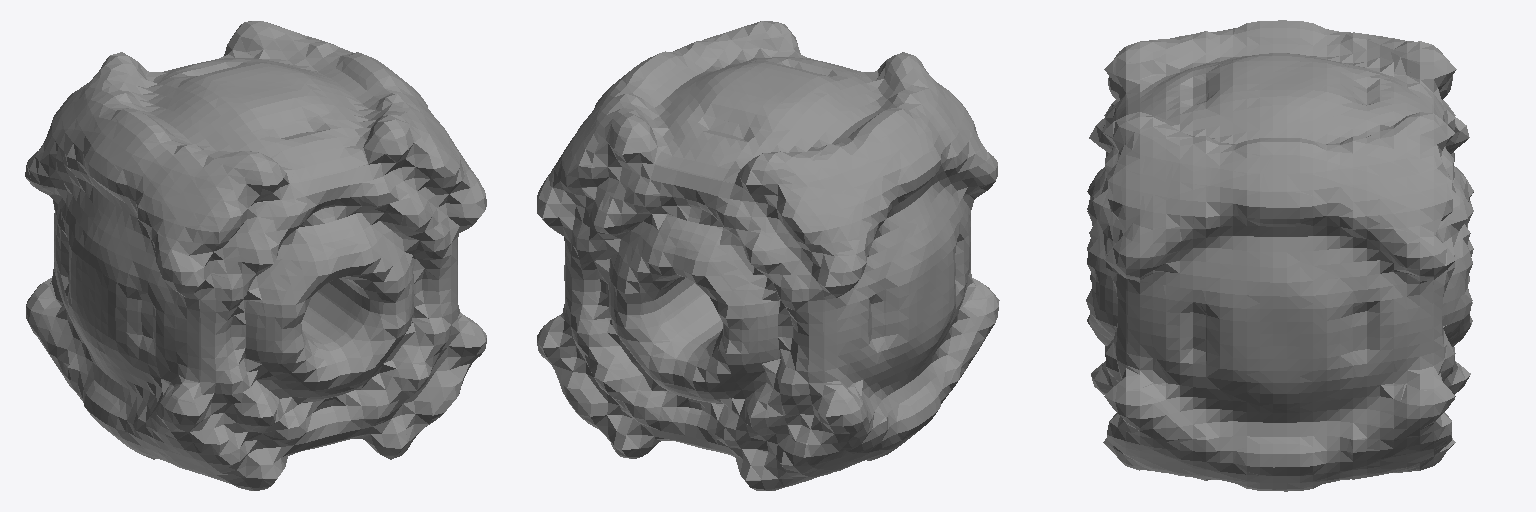
robot.urdf — cube.urdf:
<?xml version="0.0" ?> 
<robot name="cube.urdf"> 
<link name="legobrick"> 
<contact> 
<lateral_friction value="5.0"/> 
<rolling_friction value="0.0"/> 
<contact_cfm value="0.0"/> 
<contact_erp value="1.0"/> 
</contact> 
<inertial> 
<origin rpy="0 0 0" xyz="0.0 0.0 0.0"/> 
<mass value=".01"/> 
<inertia ixx="1" ixy="0" ixz="0" iyy="1" iyz="0" izz="1"/> 
</inertial> 
<visual> 
<origin rpy="1.570796 0 0" xyz="-0.025774365418792106 0.025836840332953828 -0.02580090517393538"/> 
<geometry> 
<mesh filename="D23_0.obj" scale="0.0006780721160538019 0.0006780721160538019 0.0006780721160538019"/> 
</geometry> 
<material name="yellow"> 
<color rgba="0.6 0.6 0.6 1"/> 
</material> 
</visual> 
<collision> 
<origin rpy="1.570796 0 0" xyz="-0.025774365418792106 0.025836840332953828 -0.02580090517393538"/> 
<geometry> 
<mesh filename="D23_0.obj" scale="0.0006780721160538019 0.0006780721160538019 0.0006780721160538019"/> 
</geometry> 
</collision> 
</link> 
</robot>

--- Render facts (derived) ---
Views: 3 orthographic renders of the robot side by side, from view 1: azimuth 30°, elevation 25°; view 2: azimuth 150°, elevation 25°; view 3: azimuth 270°, elevation 25°.
Robot: cube.urdf — 1 links, 0 joints (none); root link legobrick; default pose: all joints at 0.
Links seen in each view (by area): view 1: legobrick; view 2: legobrick; view 3: legobrick.
Link boxes in pixels (x1,y1,x2,y2): legobrick: (25, 21, 486, 490); legobrick: (537, 21, 999, 490); legobrick: (1086, 20, 1473, 491).
Bounding box of the posed robot: 0.056 × 0.0544 × 0.056 m (x, y, z).
Meshes: 1 distinct files referenced, 1 mesh visuals loaded (1 OBJ).
